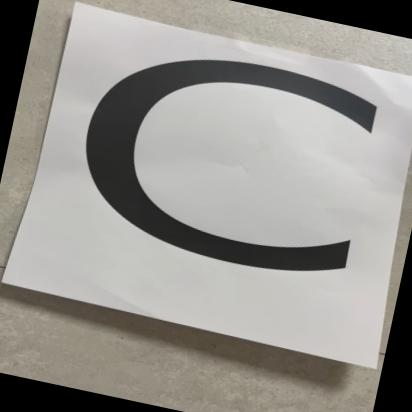seat: (0, 0, 412, 365)
